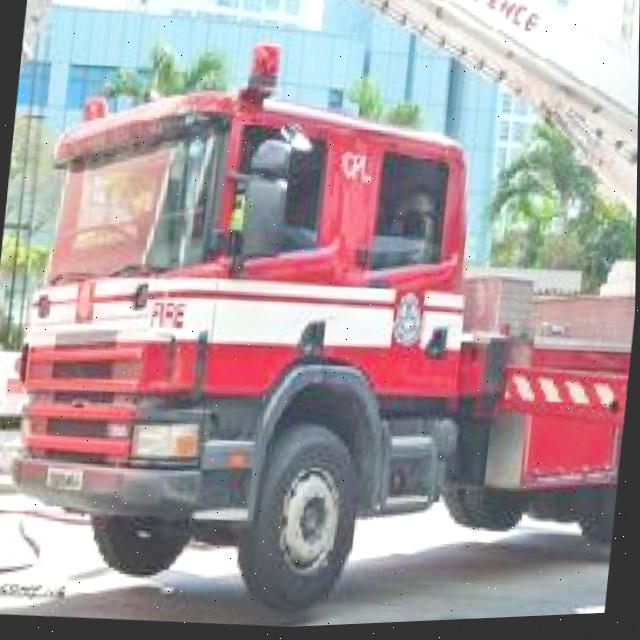emergency: (0, 12, 640, 640)
